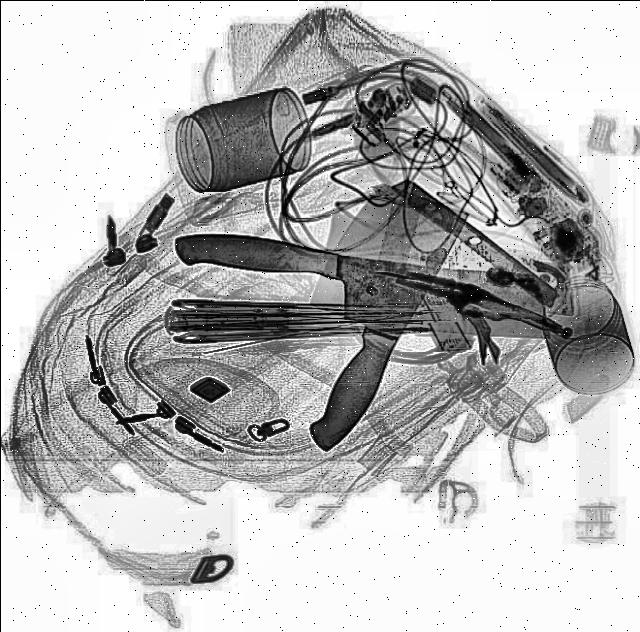Knife: (248, 166, 474, 456), (168, 228, 556, 340)
